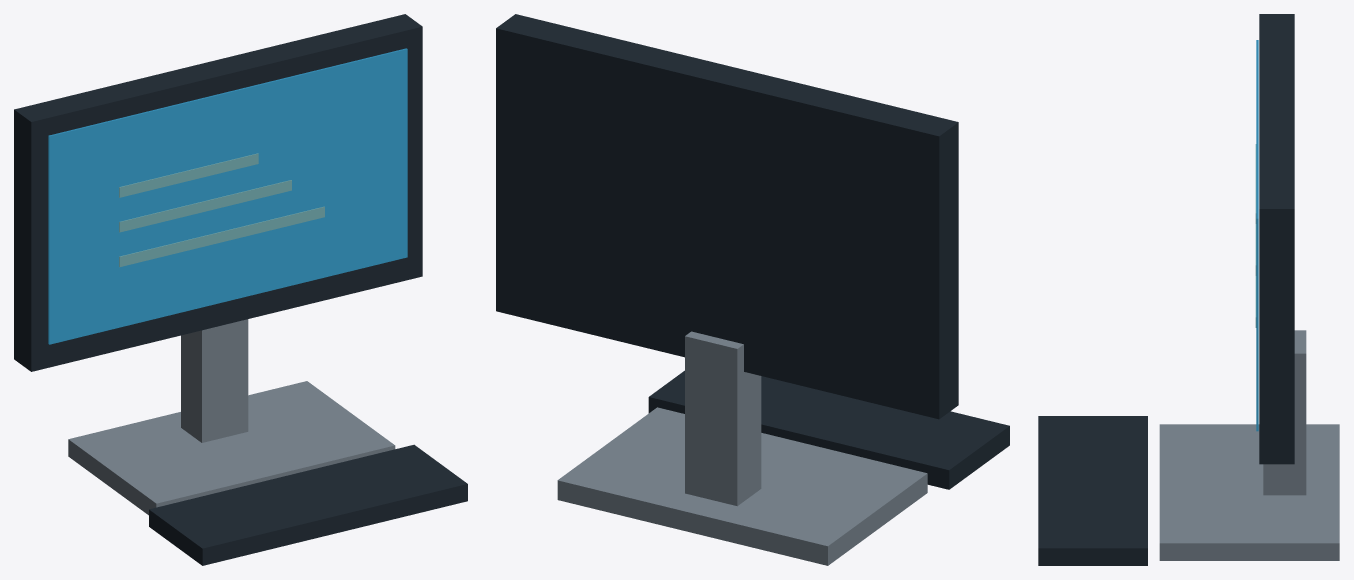
The model's file is desktop-terminal-lod1.glb.
3 views of the same model, side by side, from view 1: azimuth 30°, elevation 25°; view 2: azimuth 150°, elevation 25°; view 3: azimuth 270°, elevation 25° (orthographic). The views are drawn at different scales.
Parts seen in each view (by area): view 1: screen, monitor, foot, keyboard, stand, screen-line (×3); view 2: monitor, foot, keyboard, stand; view 3: foot, keyboard, monitor, stand, screen.
Boxes of the visible parts, x1=… form: screen: x1=48, y1=48, x2=407, y2=344; monitor: x1=14, y1=14, x2=422, y2=371; foot: x1=68, y1=381, x2=395, y2=515; keyboard: x1=149, y1=444, x2=467, y2=565; stand: x1=181, y1=319, x2=248, y2=442; screen-line (×3): x1=119, y1=153, x2=324, y2=267; monitor: x1=496, y1=14, x2=958, y2=419; foot: x1=557, y1=407, x2=927, y2=565; keyboard: x1=648, y1=370, x2=1009, y2=489; stand: x1=685, y1=331, x2=761, y2=506; foot: x1=1159, y1=424, x2=1339, y2=560; keyboard: x1=1038, y1=416, x2=1147, y2=565; monitor: x1=1259, y1=14, x2=1294, y2=464; stand: x1=1263, y1=330, x2=1306, y2=495; screen: x1=1256, y1=40, x2=1258, y2=431.
Bounding box in the file's own units: 0.59 × 0.55 × 0.385.
